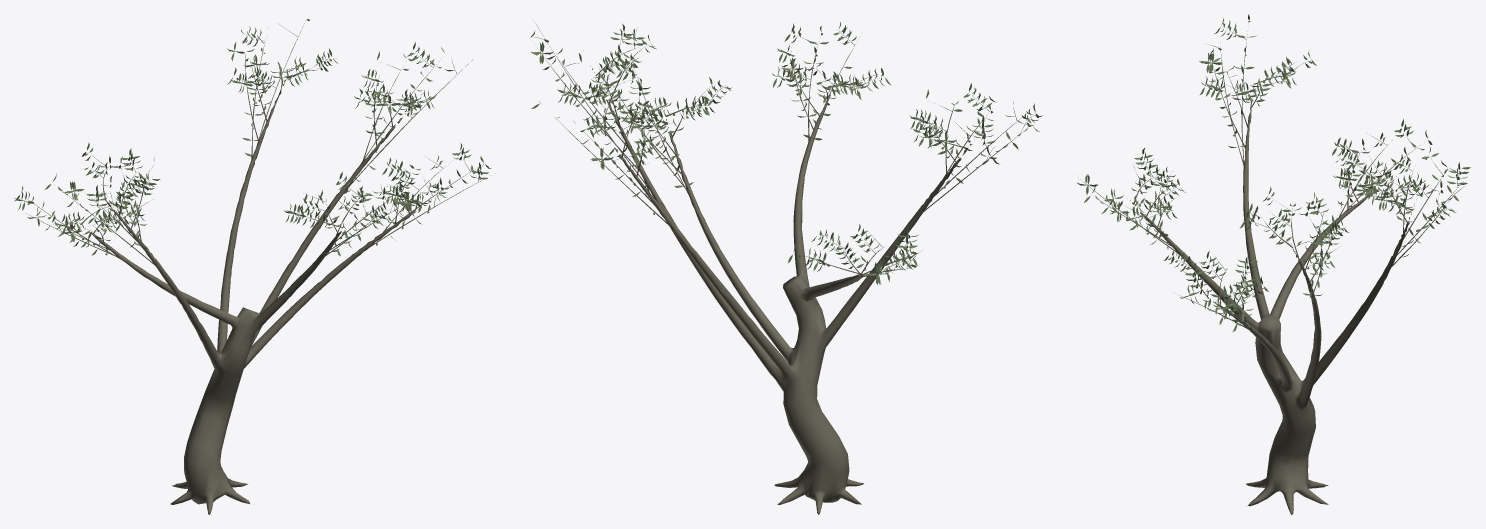
The model's file is Oleastre_2_Niveau1.fbx.
3 views of the same model, side by side, from view 1: azimuth 30°, elevation 25°; view 2: azimuth 150°, elevation 25°; view 3: azimuth 270°, elevation 25° (orthographic). The views are drawn at different scales.
Visible parts, largest first — view 1: Oleastre_2_Niveau1_Jeu; view 2: Oleastre_2_Niveau1_Jeu; view 3: Oleastre_2_Niveau1_Jeu.
Boxes of the visible parts, x1,y1,x2,y2 form: Oleastre_2_Niveau1_Jeu: (14, 19, 491, 514); Oleastre_2_Niveau1_Jeu: (530, 22, 1042, 514); Oleastre_2_Niveau1_Jeu: (1077, 14, 1470, 514).
Size of the model in its own units: 389 by 315 by 286.
